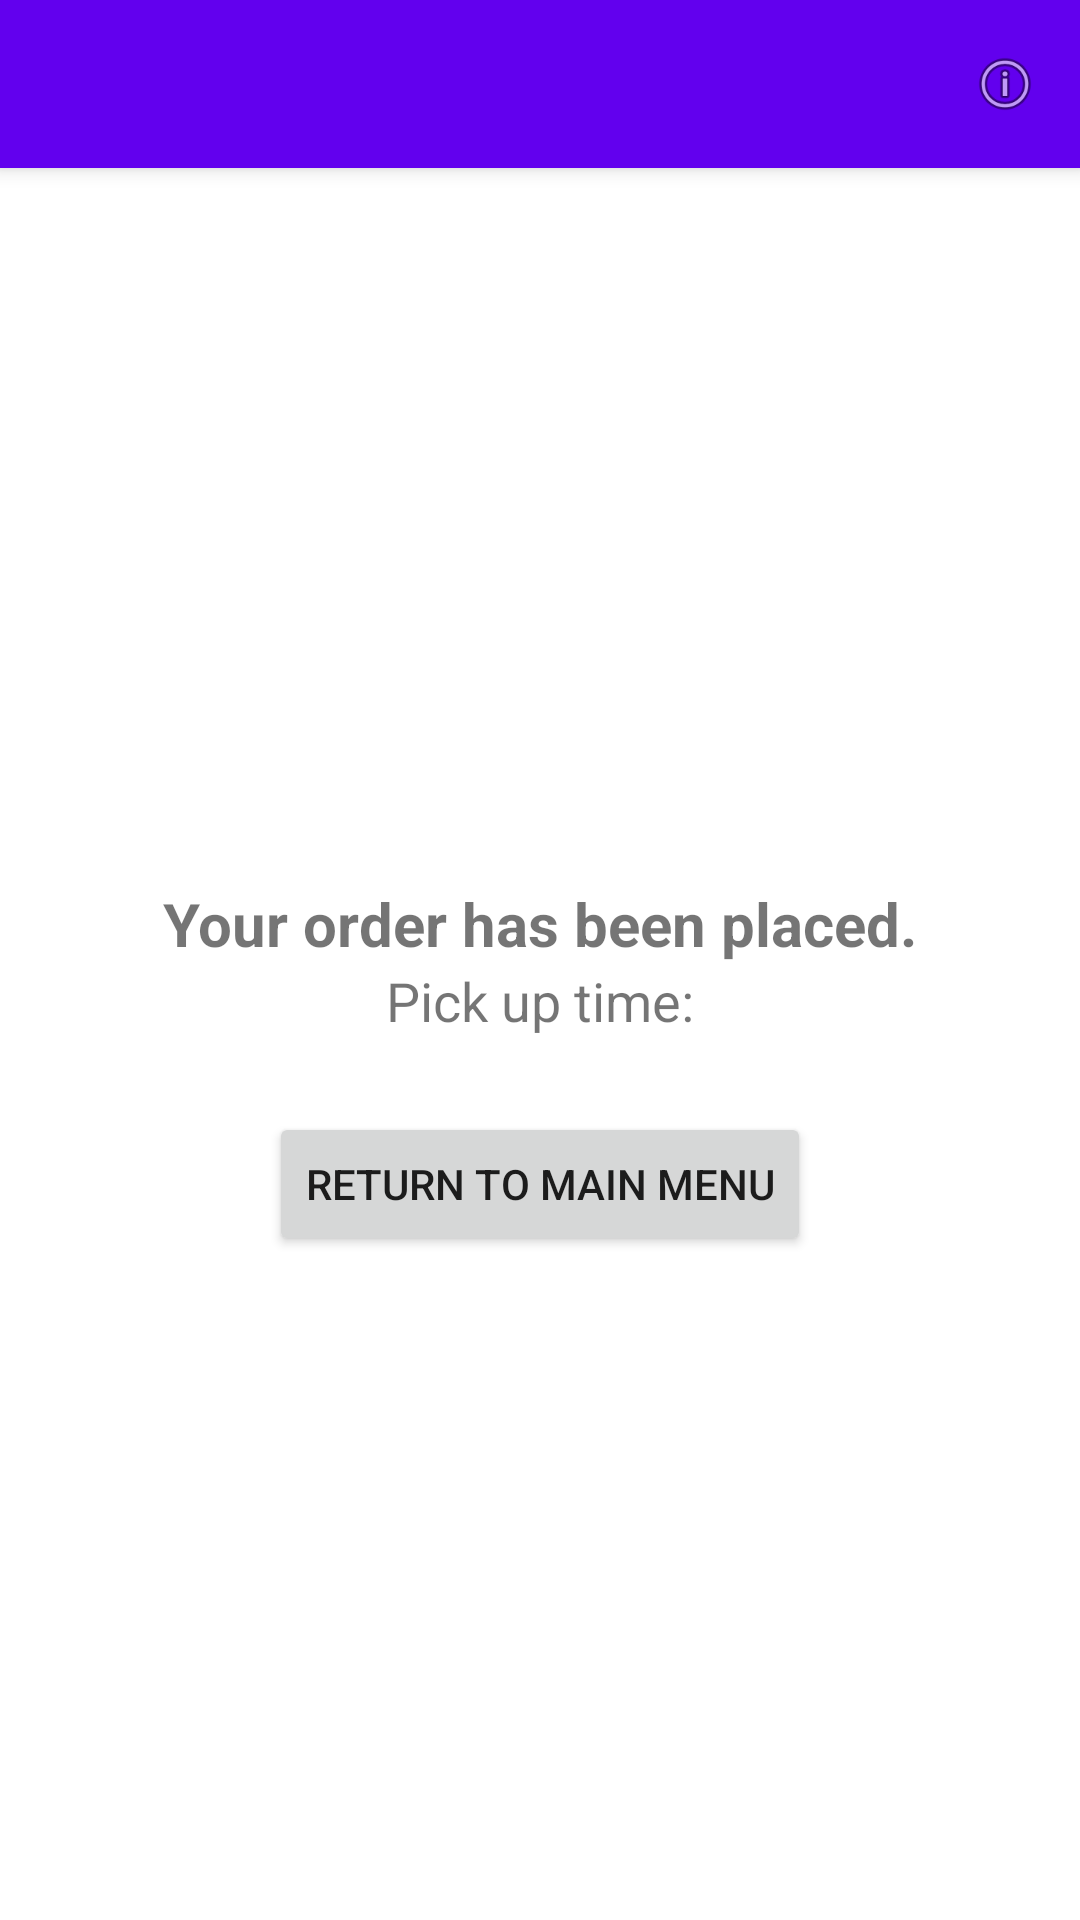

Screen size 1080px×1920px. Icon name, then its center in pixels as (x,y):
info details: (1005,84)
